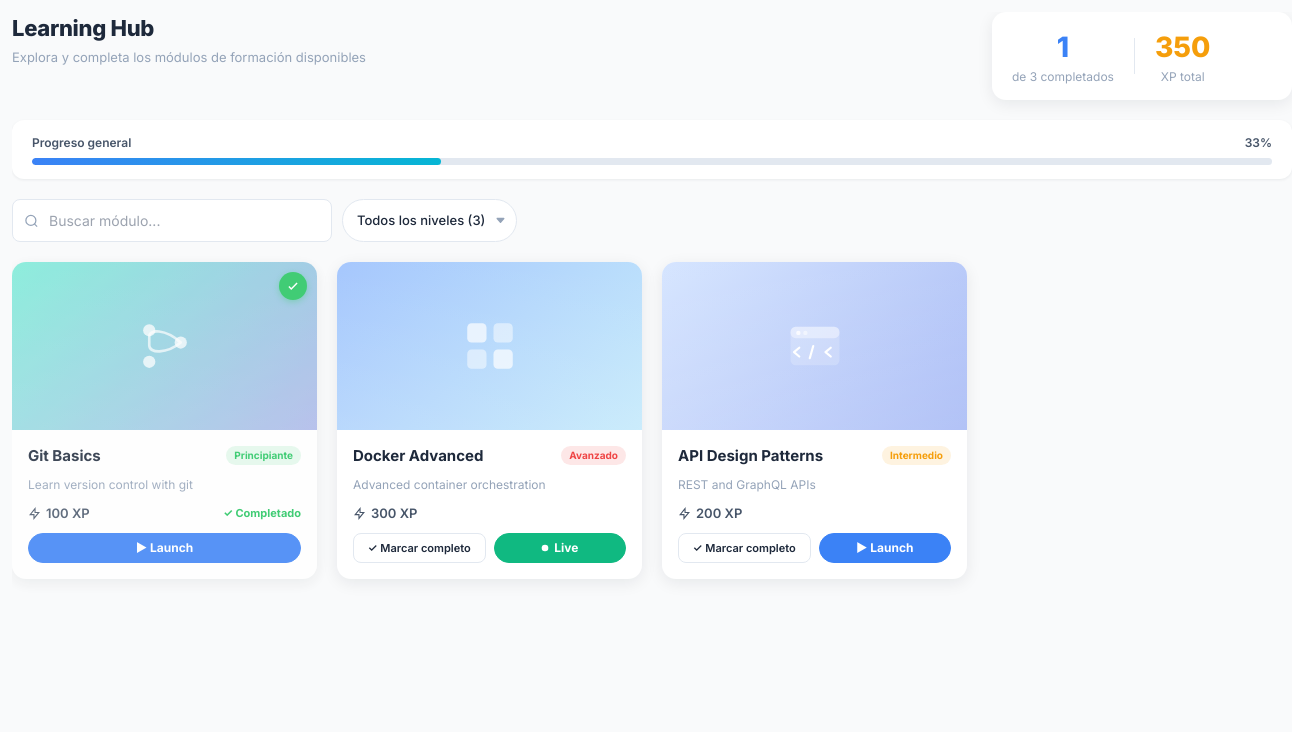
Scenario: LearningHub › filtra boxes por búsqueda de texto
The image size is (1292, 732).
Expected: the heading "Git Basics" is shown, [28,446,101,466]
Type "Git" into the field with placeholder "Buscar módulo...".
click(172, 220); type("Git")  # box [12,199,332,242]
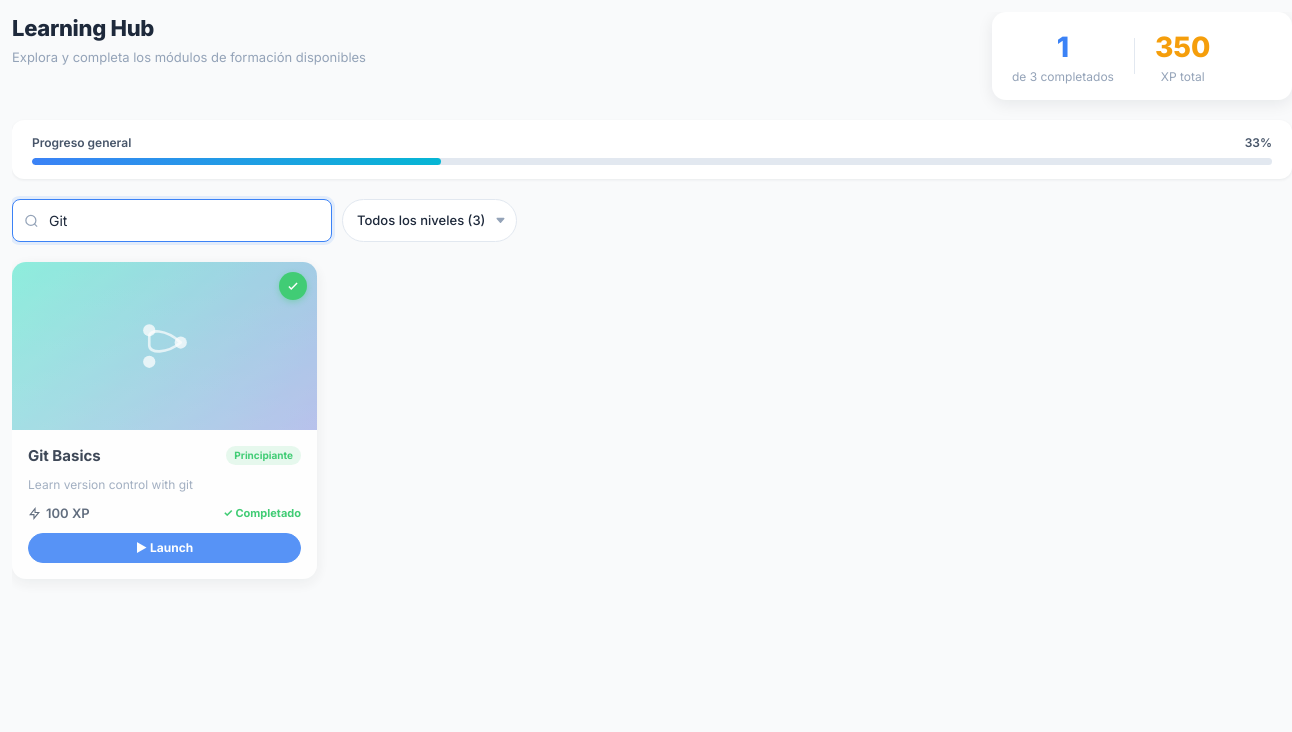
Expected: the heading "Git Basics" is shown, [28,446,101,466]
Expected: the heading "Docker Advanced" is gone
Expected: the heading "API Design Patterns" is gone
